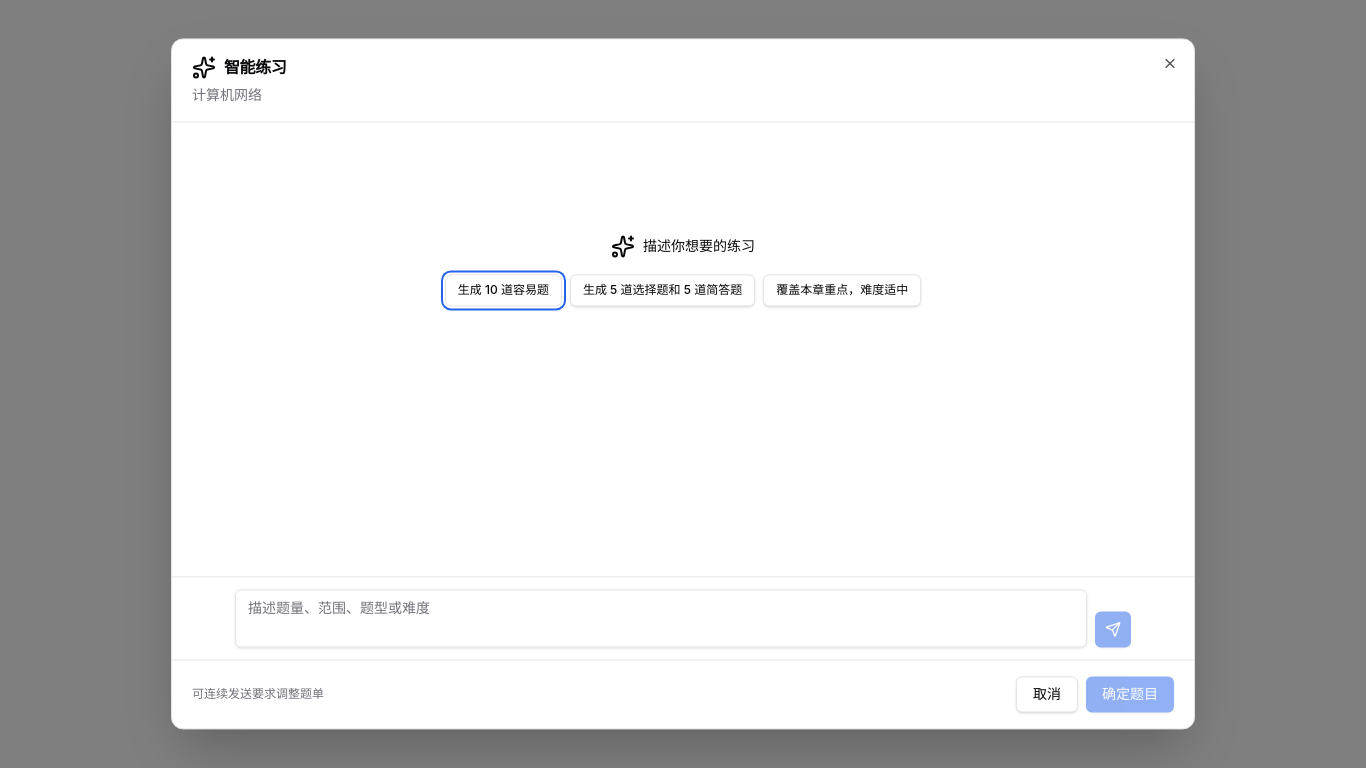
Test case: SmartPracticeChatDialog › 课程没有现有题目时仍可发送提示词并生成题目
Type "生成 10 道第一章的题目" into the text box named "练习对话输入" at [661, 619], box [235,590,1087,648]
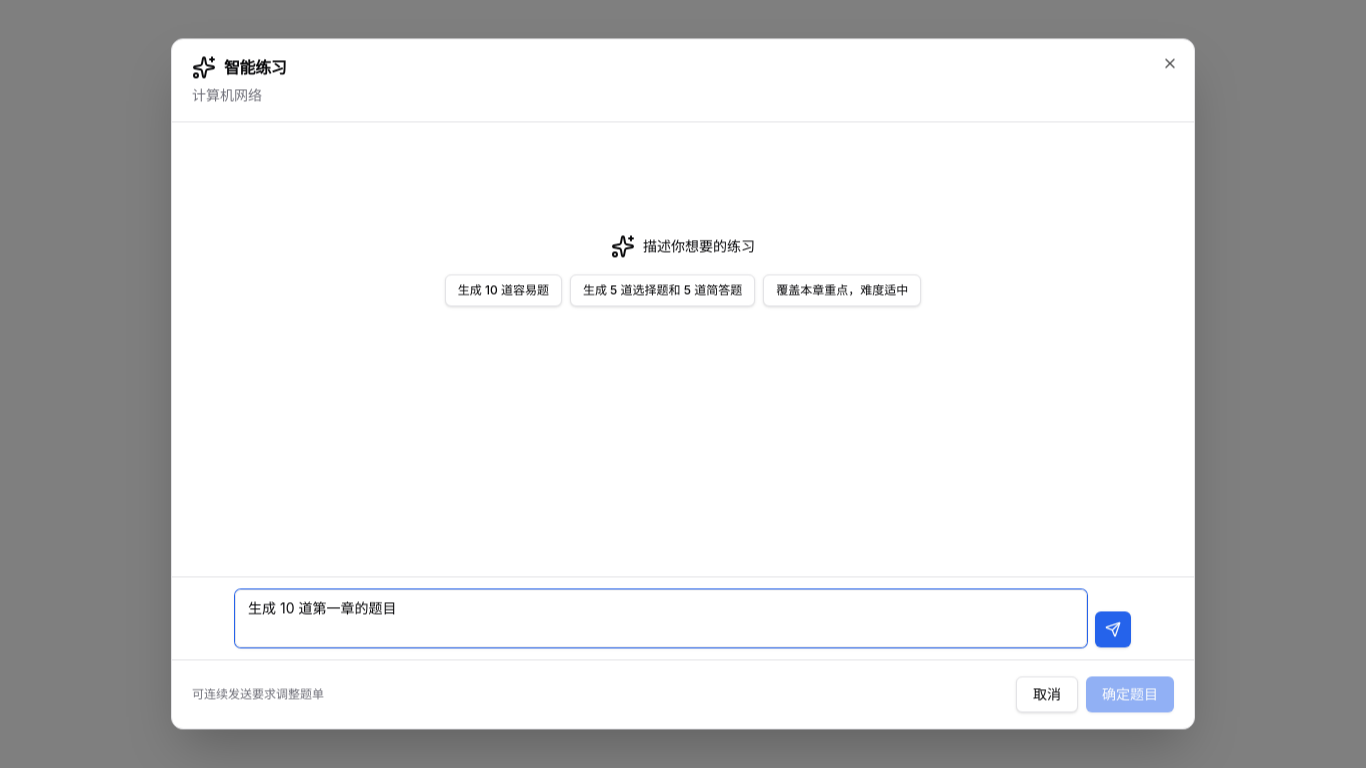
Expected: the button named "发送" is enabled
Click the button named "发送" at [1113, 630], box [1095,612,1131,648]
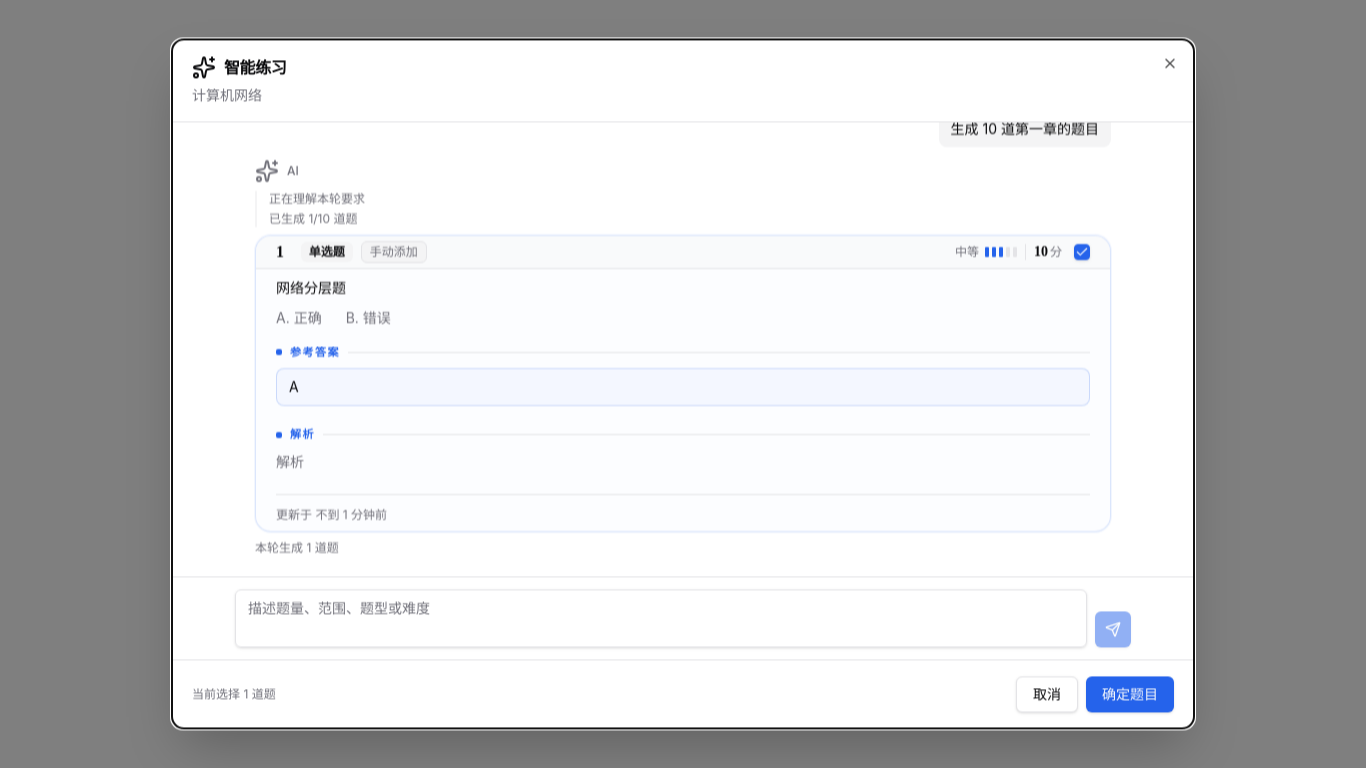
Expected: the button "确定题目" is shown, [1086,677,1174,713]
Expected: the text "本轮生成 1 道题" is shown, [255,540,339,555]
Expected: the text "网络分层题" is shown, [276,279,346,296]
